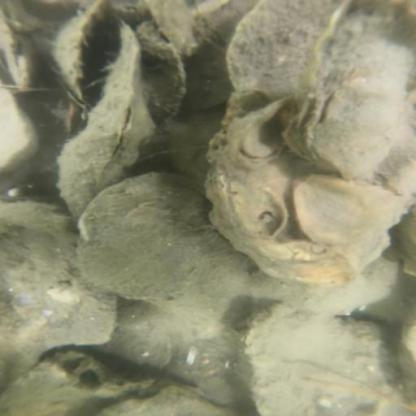Oyster-Closed: (82, 170, 248, 335), (281, 1, 416, 180), (0, 199, 121, 395), (51, 18, 157, 223), (234, 306, 416, 416), (91, 303, 240, 406), (290, 174, 415, 278), (230, 1, 342, 100), (90, 387, 240, 416)
